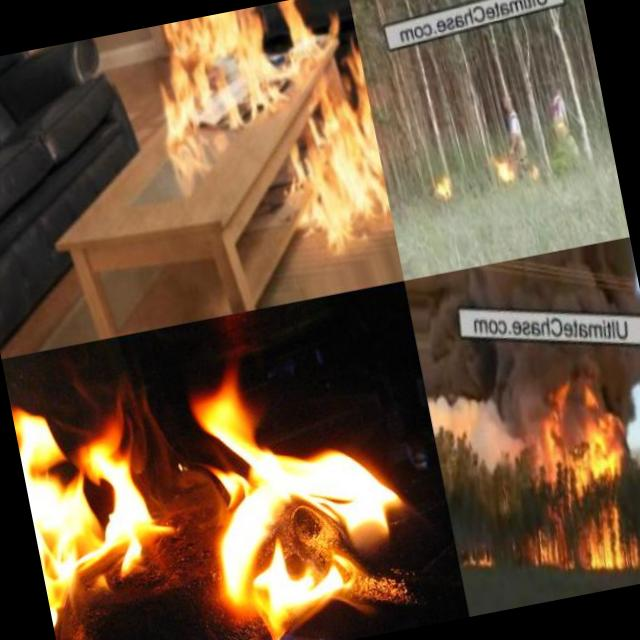fire: (1, 284, 446, 640), (136, 0, 398, 293), (550, 412, 624, 495), (530, 522, 573, 566), (458, 542, 498, 574), (428, 166, 458, 206), (485, 150, 520, 184)
smoke: (426, 368, 556, 472), (542, 345, 640, 422)
